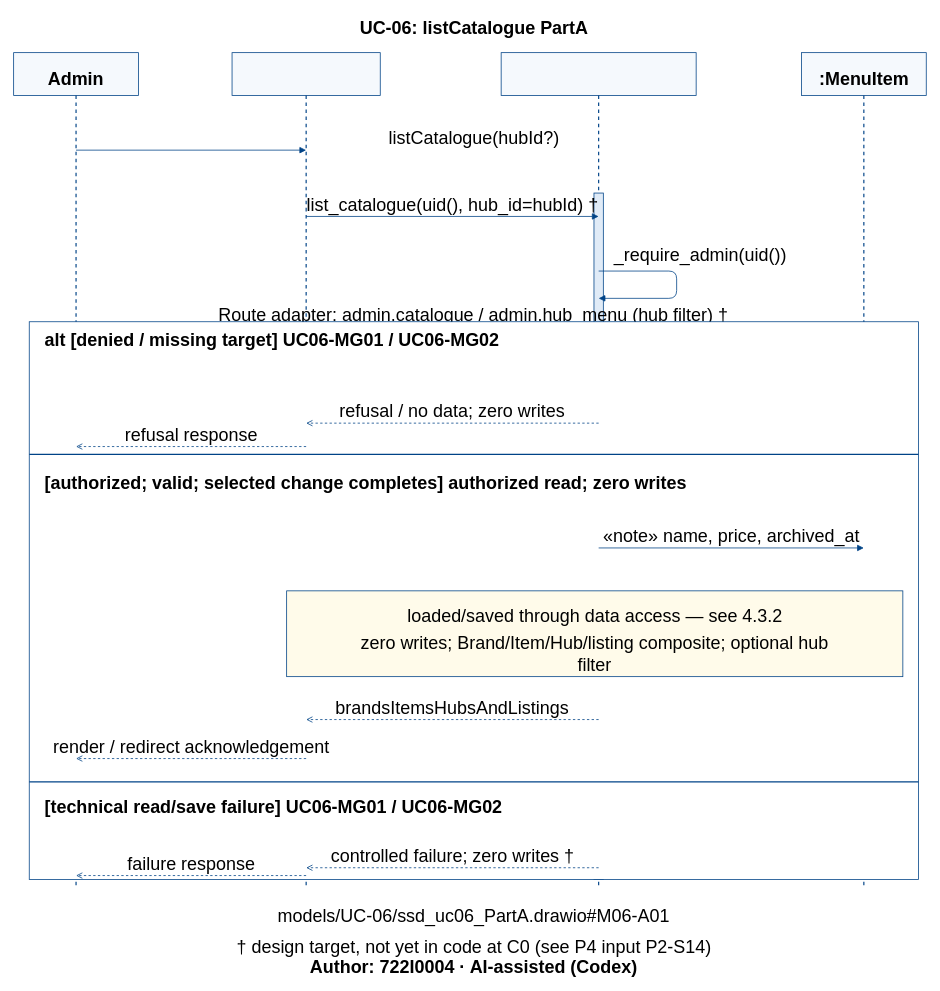
This 940x991 diagram has some shape labels left out. The shapes that lost their labels are listed below. From the top down, each one's centre as x and y in pixels, then its label:
At [305,74]: "«view» admin".
At [598,74]: ":MenuController".
